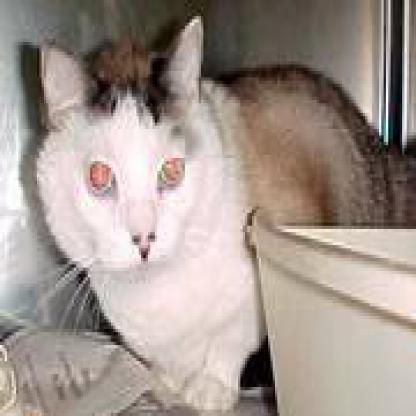cat: (32, 10, 379, 346)
